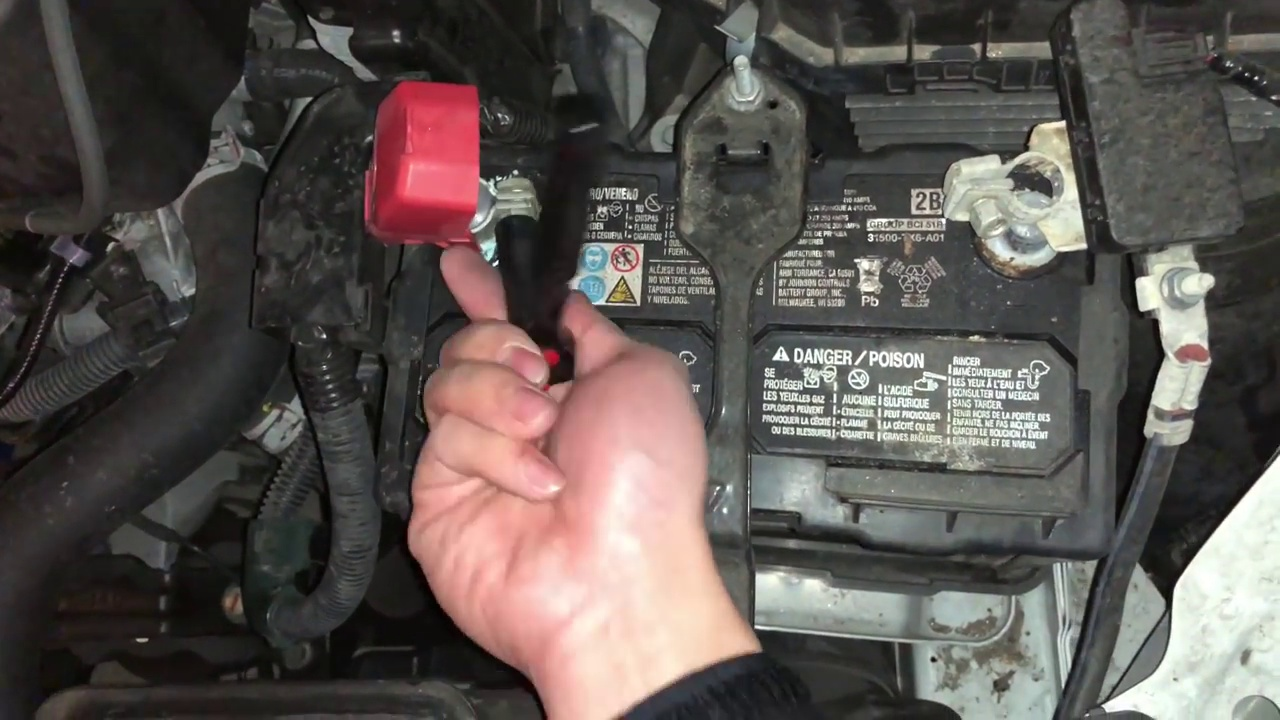battery: (366, 126, 1131, 540)
neg_disconnected: (921, 120, 1081, 302)
pos_touched: (346, 81, 634, 428)
